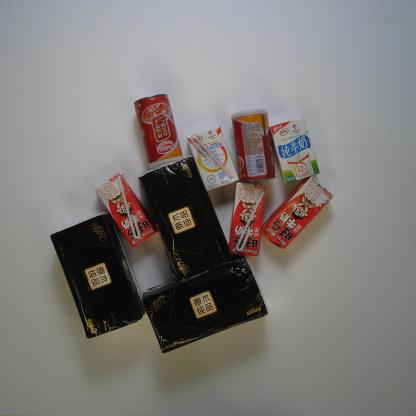Canned Food: (132, 93, 184, 171), (230, 106, 277, 183)
Milk: (260, 174, 334, 250), (93, 171, 156, 249), (185, 123, 240, 193), (269, 115, 321, 184), (228, 182, 268, 258)
Tissue: (140, 254, 269, 354), (50, 211, 148, 341), (138, 156, 231, 278)
